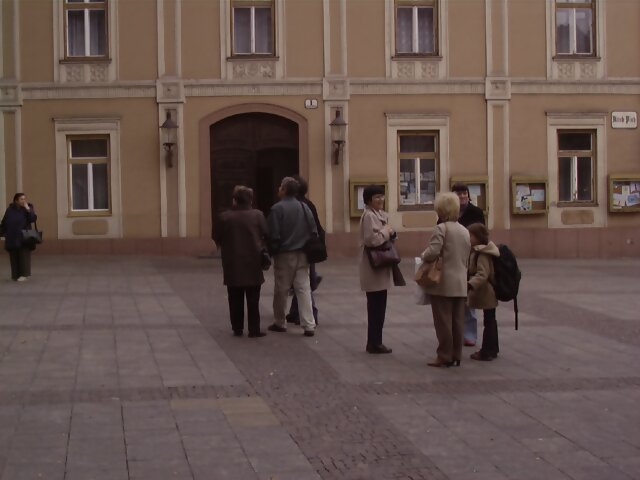person: (354, 179, 410, 375), (211, 185, 275, 340), (415, 194, 473, 364), (268, 175, 323, 338), (468, 222, 518, 364), (1, 191, 42, 279)
